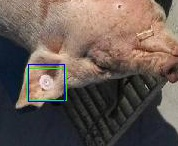text: (27, 68, 66, 100)
